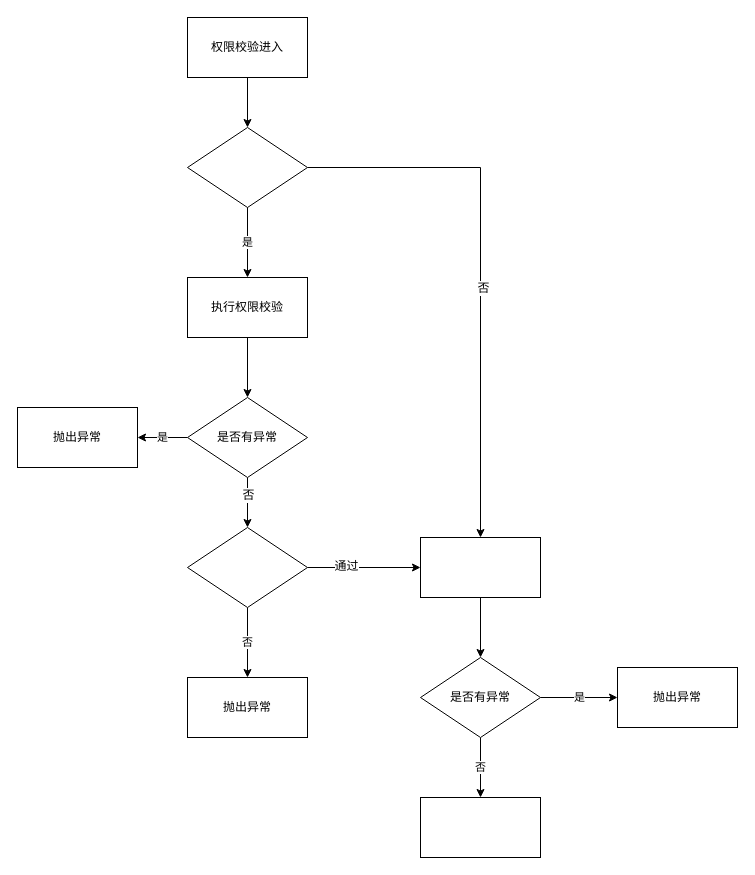
Some shapes in this 755 by 875 pixel diagram are drawn without their labels. The centre of each missing label's shape, as x and y in pixels:
"执行业务服务" goes at [480,567].
"接口是否校验" goes at [247,167].
"权限校验通过" goes at [247,567].
"结果返回" goes at [480,827].
